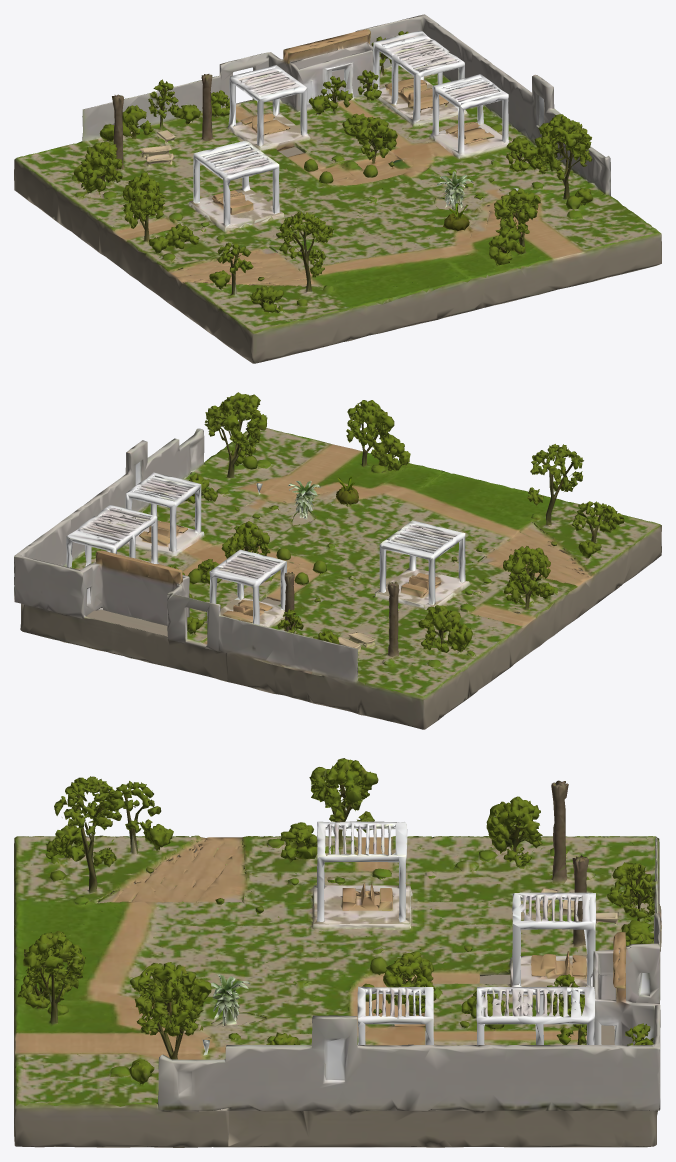
File: la-plage-beach-2.glb
3 renders of one model, top to bottom at view 1: azimuth 30°, elevation 25°; view 2: azimuth 150°, elevation 25°; view 3: azimuth 270°, elevation 25°, orthographic. The views are drawn at different scales.
Size of the model in its own units: 1 by 0.2689 by 1.
Materials: 1 (1 with a texture image).
